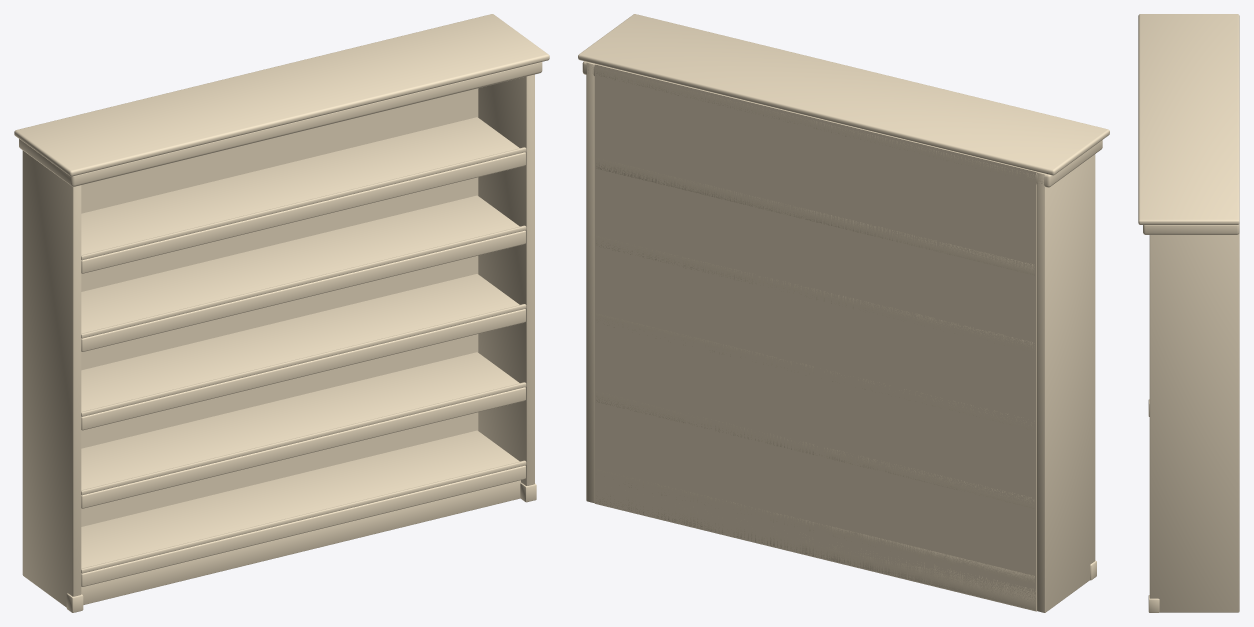
File: shelf_5x210x40.glb
The picture shows the model from 3 angles, left to right: view 1: azimuth 30°, elevation 25°; view 2: azimuth 150°, elevation 25°; view 3: azimuth 270°, elevation 25°; orthographic projection. The views are drawn at different scales.
Parts seen in each view (by area): view 1: shelf_5x210x40; view 2: shelf_5x210x40; view 3: shelf_5x210x40.
Part boxes in pixels (x1=…): shelf_5x210x40: x1=14, y1=14, x2=549, y2=612; shelf_5x210x40: x1=578, y1=14, x2=1109, y2=612; shelf_5x210x40: x1=1138, y1=14, x2=1239, y2=612.
Bounding box in the file's own units: 2.18 × 1.95 × 0.45.
